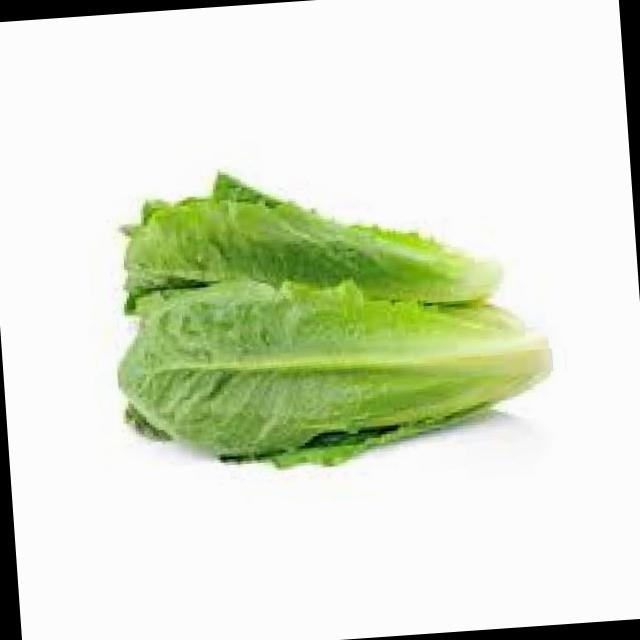Lettuce-Ready-to-Harvest: (118, 279, 549, 466), (125, 173, 497, 302)
